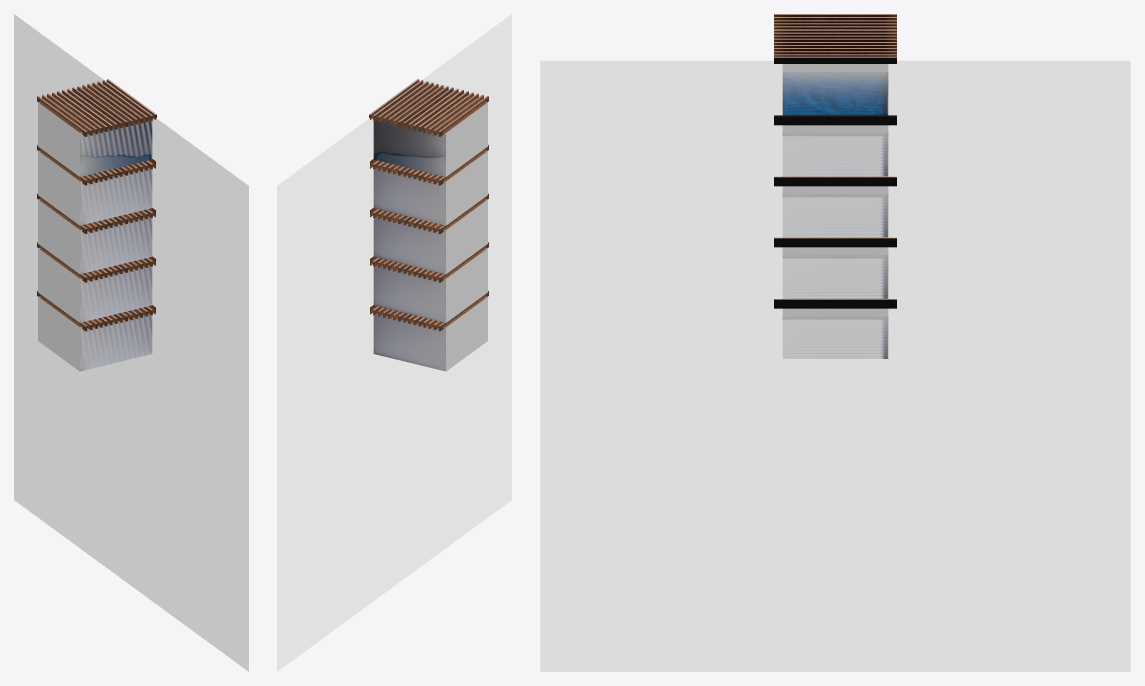
Rendered from allboxv2.glb.
3 renders of one model, left to right at view 1: azimuth 30°, elevation 25°; view 2: azimuth 150°, elevation 25°; view 3: azimuth 270°, elevation 25°, orthographic. The views are drawn at different scales.
Parts seen in each view (by area): view 1: wall, box.main, box.empty.001, box.empty.004, box.empty.002, box.empty.003; view 2: wall, box.main, box.empty.001, box.empty.004, box.empty.002, box.empty.003; view 3: wall, box.main, box.empty.003, box.empty.001, box.empty.002, box.empty.004.
Part boxes in pixels (x1,y1,x2,y2): wall: (14, 14, 248, 671); box.main: (37, 79, 156, 176); box.empty.001: (37, 144, 155, 225); box.empty.004: (37, 290, 155, 371); box.empty.002: (37, 193, 155, 274); box.empty.003: (37, 242, 155, 322); wall: (277, 14, 511, 671); box.main: (369, 79, 488, 176); box.empty.001: (370, 144, 488, 225); box.empty.004: (370, 290, 488, 371); box.empty.002: (370, 193, 488, 274); box.empty.003: (370, 242, 488, 322); wall: (540, 60, 1130, 671); box.main: (774, 14, 896, 114); box.empty.003: (774, 237, 896, 298); box.empty.001: (774, 115, 896, 176); box.empty.002: (774, 176, 896, 237); box.empty.004: (774, 298, 896, 358).
Bounding box in the file's own units: 2.03 × 12.87 × 11.2.
Materials: 3 (2 with a texture image).
